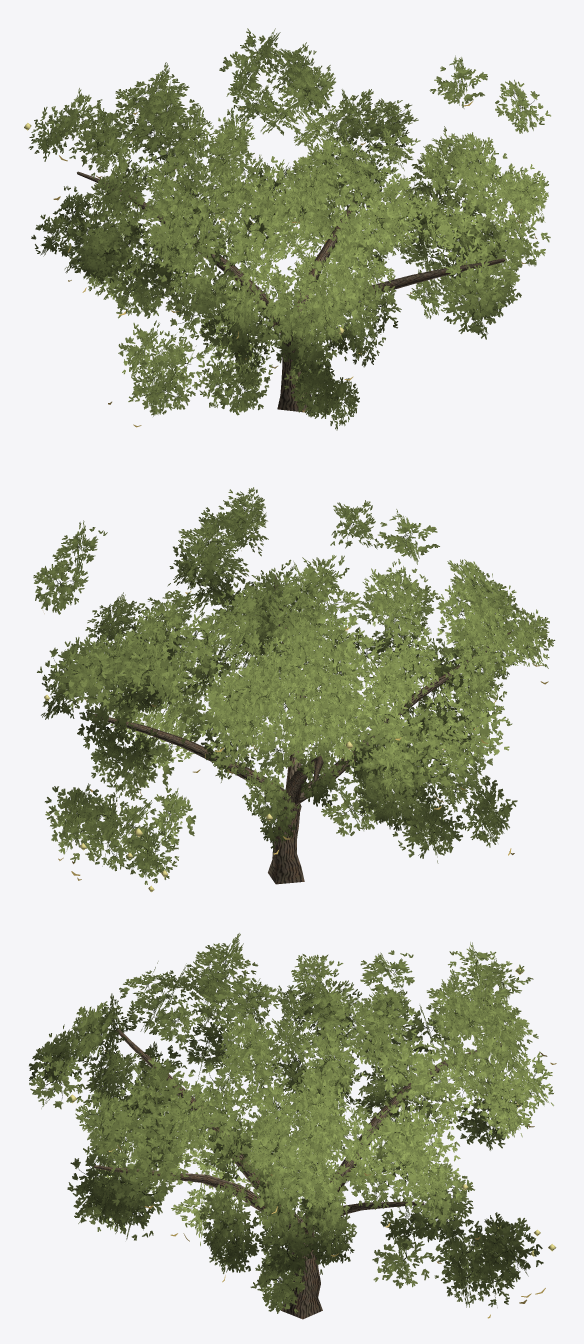
Rendered from adult-c.lod1.glb.
3 views of the same model, one above another, from view 1: azimuth 30°, elevation 25°; view 2: azimuth 150°, elevation 25°; view 3: azimuth 270°, elevation 25° (orthographic). The views are drawn at different scales.
Parts seen in each view (by area): view 1: foliage, bark; view 2: foliage, bark; view 3: foliage, bark.
Boxes of the visible parts, x1=… form: foliage: x1=28, y1=28, x2=550, y2=430; bark: x1=77, y1=171, x2=505, y2=412; foliage: x1=33, y1=487, x2=555, y2=884; bark: x1=87, y1=576, x2=510, y2=884; foliage: x1=29, y1=933, x2=553, y2=1313; bark: x1=93, y1=1029, x2=502, y2=1319.
Bounding box in the file's own units: 12.18 × 7.5 × 11.84.
Materials: 4 (2 with a texture image).
